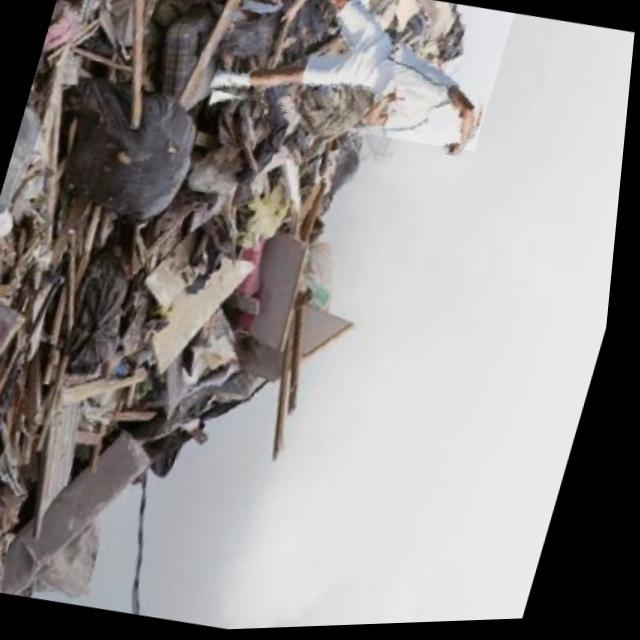Person in Rubble: (203, 0, 516, 163)
